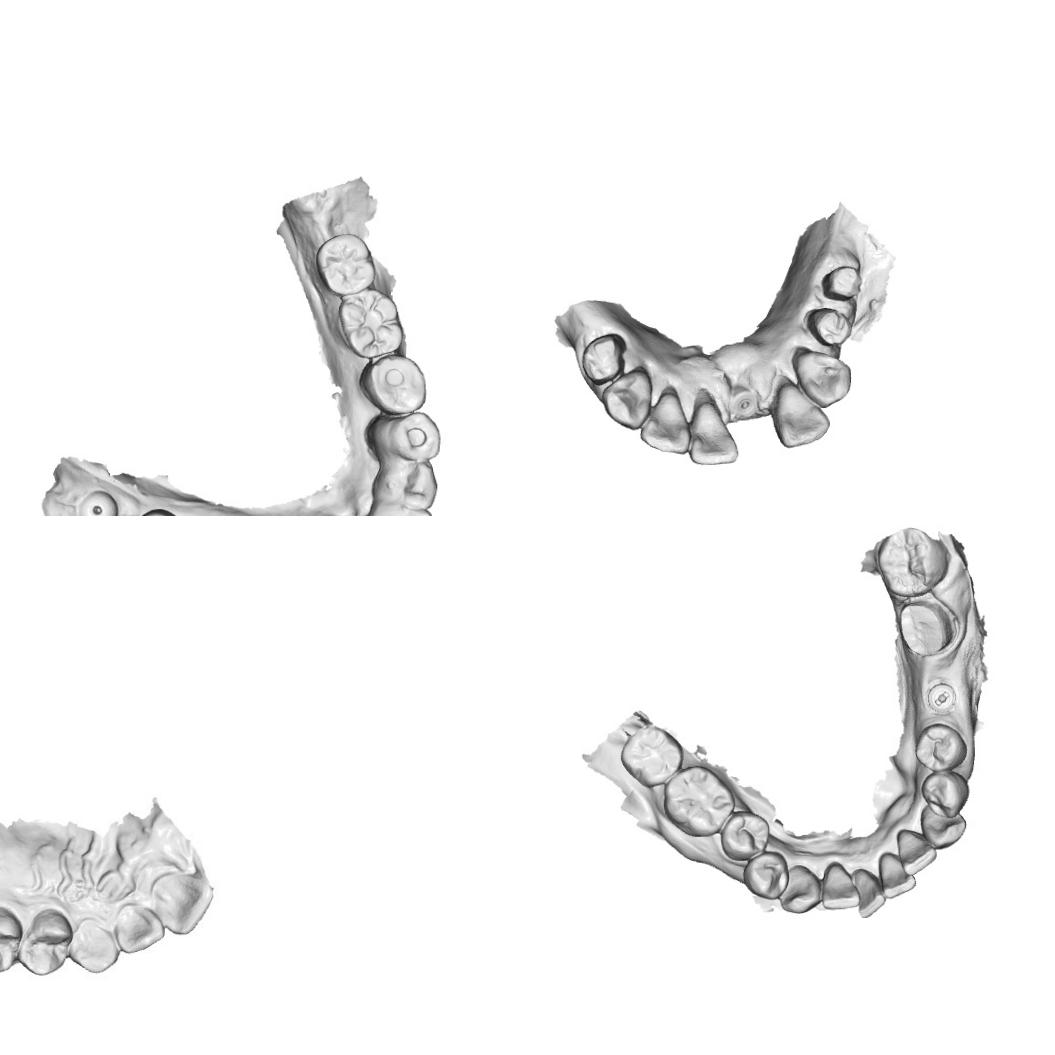canine: (796, 345, 856, 408), (602, 370, 654, 432), (69, 915, 119, 978), (382, 460, 436, 513), (918, 801, 968, 851), (778, 862, 820, 916)
crown: (895, 598, 957, 657), (578, 330, 628, 385), (818, 258, 864, 306), (807, 305, 855, 348)
implant: (77, 486, 120, 516), (728, 386, 761, 418)
implant_minus: (926, 681, 958, 715)
incisor: (772, 378, 830, 450), (689, 389, 738, 468), (154, 868, 212, 932), (643, 394, 690, 457), (117, 905, 164, 955), (894, 826, 938, 878), (820, 859, 861, 912), (877, 849, 917, 900), (850, 866, 886, 920), (389, 504, 435, 516)
molar: (662, 762, 738, 839), (874, 526, 948, 600), (312, 232, 380, 300), (618, 722, 686, 790), (338, 290, 400, 358)
premolar: (378, 410, 446, 466), (364, 354, 427, 414), (19, 906, 73, 976), (911, 722, 969, 773), (718, 810, 772, 864), (918, 769, 970, 821), (742, 848, 791, 902), (0, 903, 26, 975)
